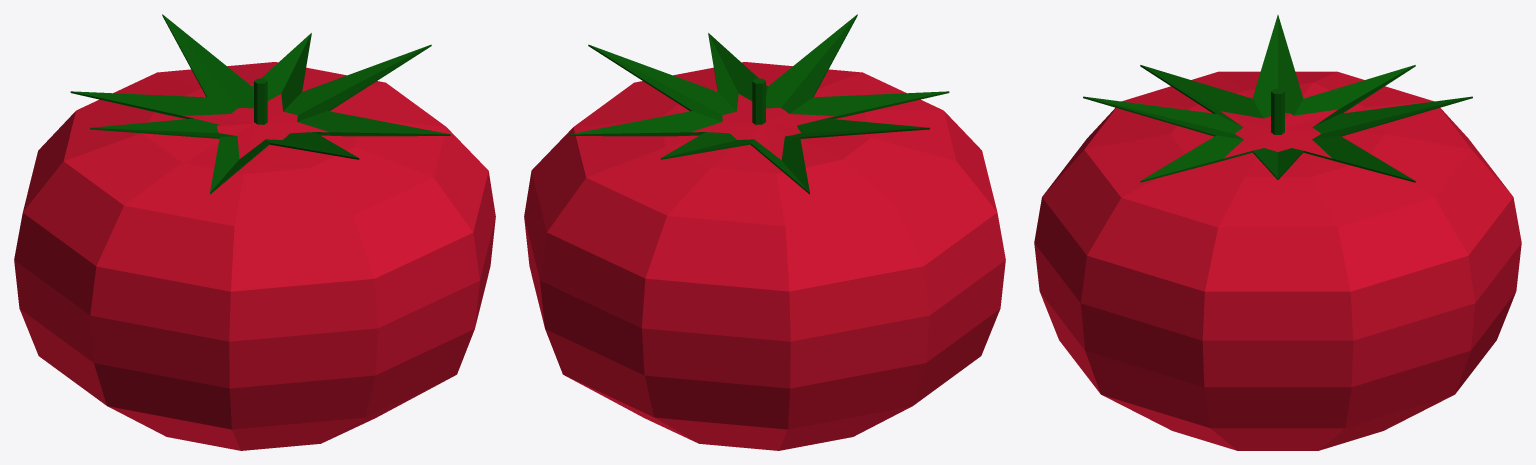
Rendered from tomate.fbx.
3 renders of one model, left to right at view 1: azimuth 30°, elevation 25°; view 2: azimuth 150°, elevation 25°; view 3: azimuth 270°, elevation 25°, orthographic.
Visible parts, largest first — view 1: Sphere, Plane; view 2: Sphere, Plane; view 3: Sphere, Plane.
Part boxes in pixels (x1,y1,x2,y2): Sphere: (14, 62, 495, 450); Plane: (70, 14, 450, 194); Sphere: (524, 62, 1005, 450); Plane: (569, 14, 949, 194); Sphere: (1034, 71, 1521, 450); Plane: (1083, 15, 1472, 182).
Bounding box in the file's own units: 216 × 159 × 227.
